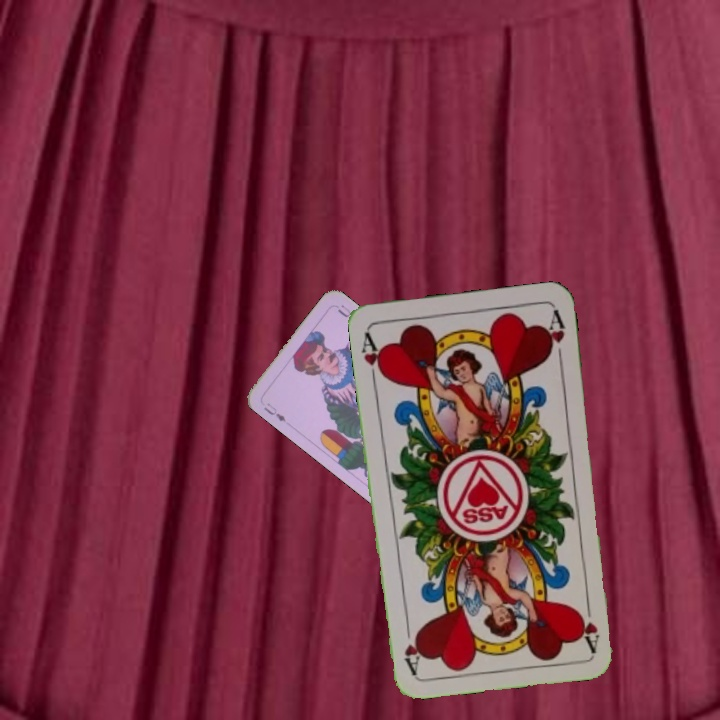EU: (259, 398, 288, 425)
HA: (357, 327, 388, 386), (575, 594, 602, 653)
